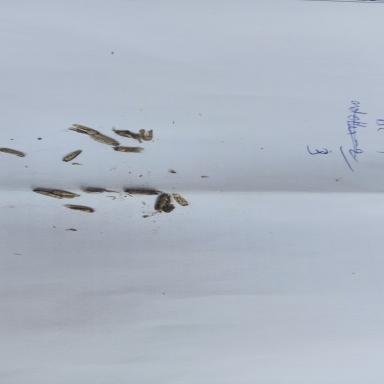pbw: (152, 192, 180, 214), (62, 121, 102, 136), (27, 188, 65, 201), (88, 134, 122, 148), (170, 191, 195, 210), (120, 188, 165, 198), (110, 126, 142, 140), (46, 186, 80, 198), (79, 186, 122, 195), (108, 146, 145, 156), (0, 146, 29, 158), (60, 149, 84, 163), (62, 204, 96, 213), (137, 128, 157, 142)
